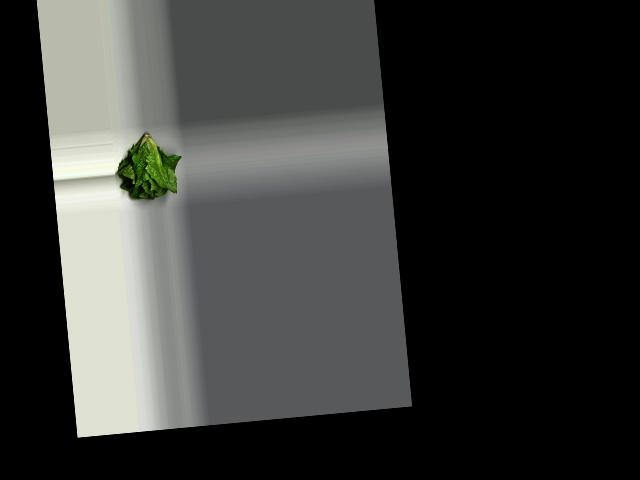lettuce: (109, 125, 183, 205)
